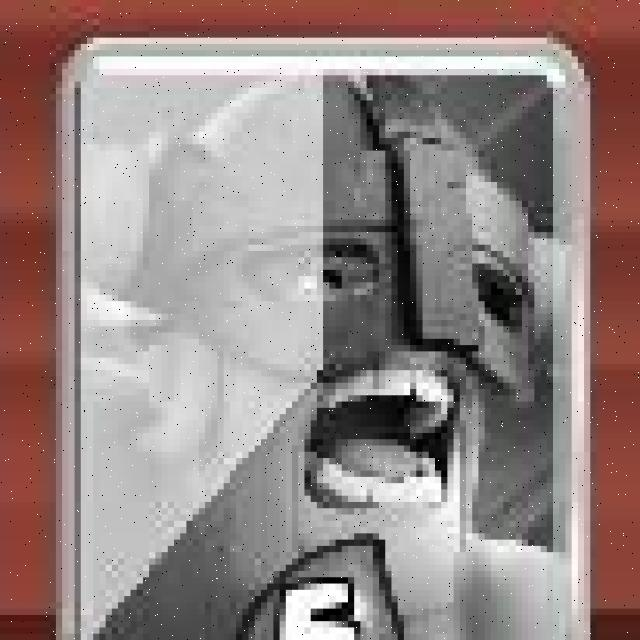Elite_Barbarians: (64, 38, 594, 640)
